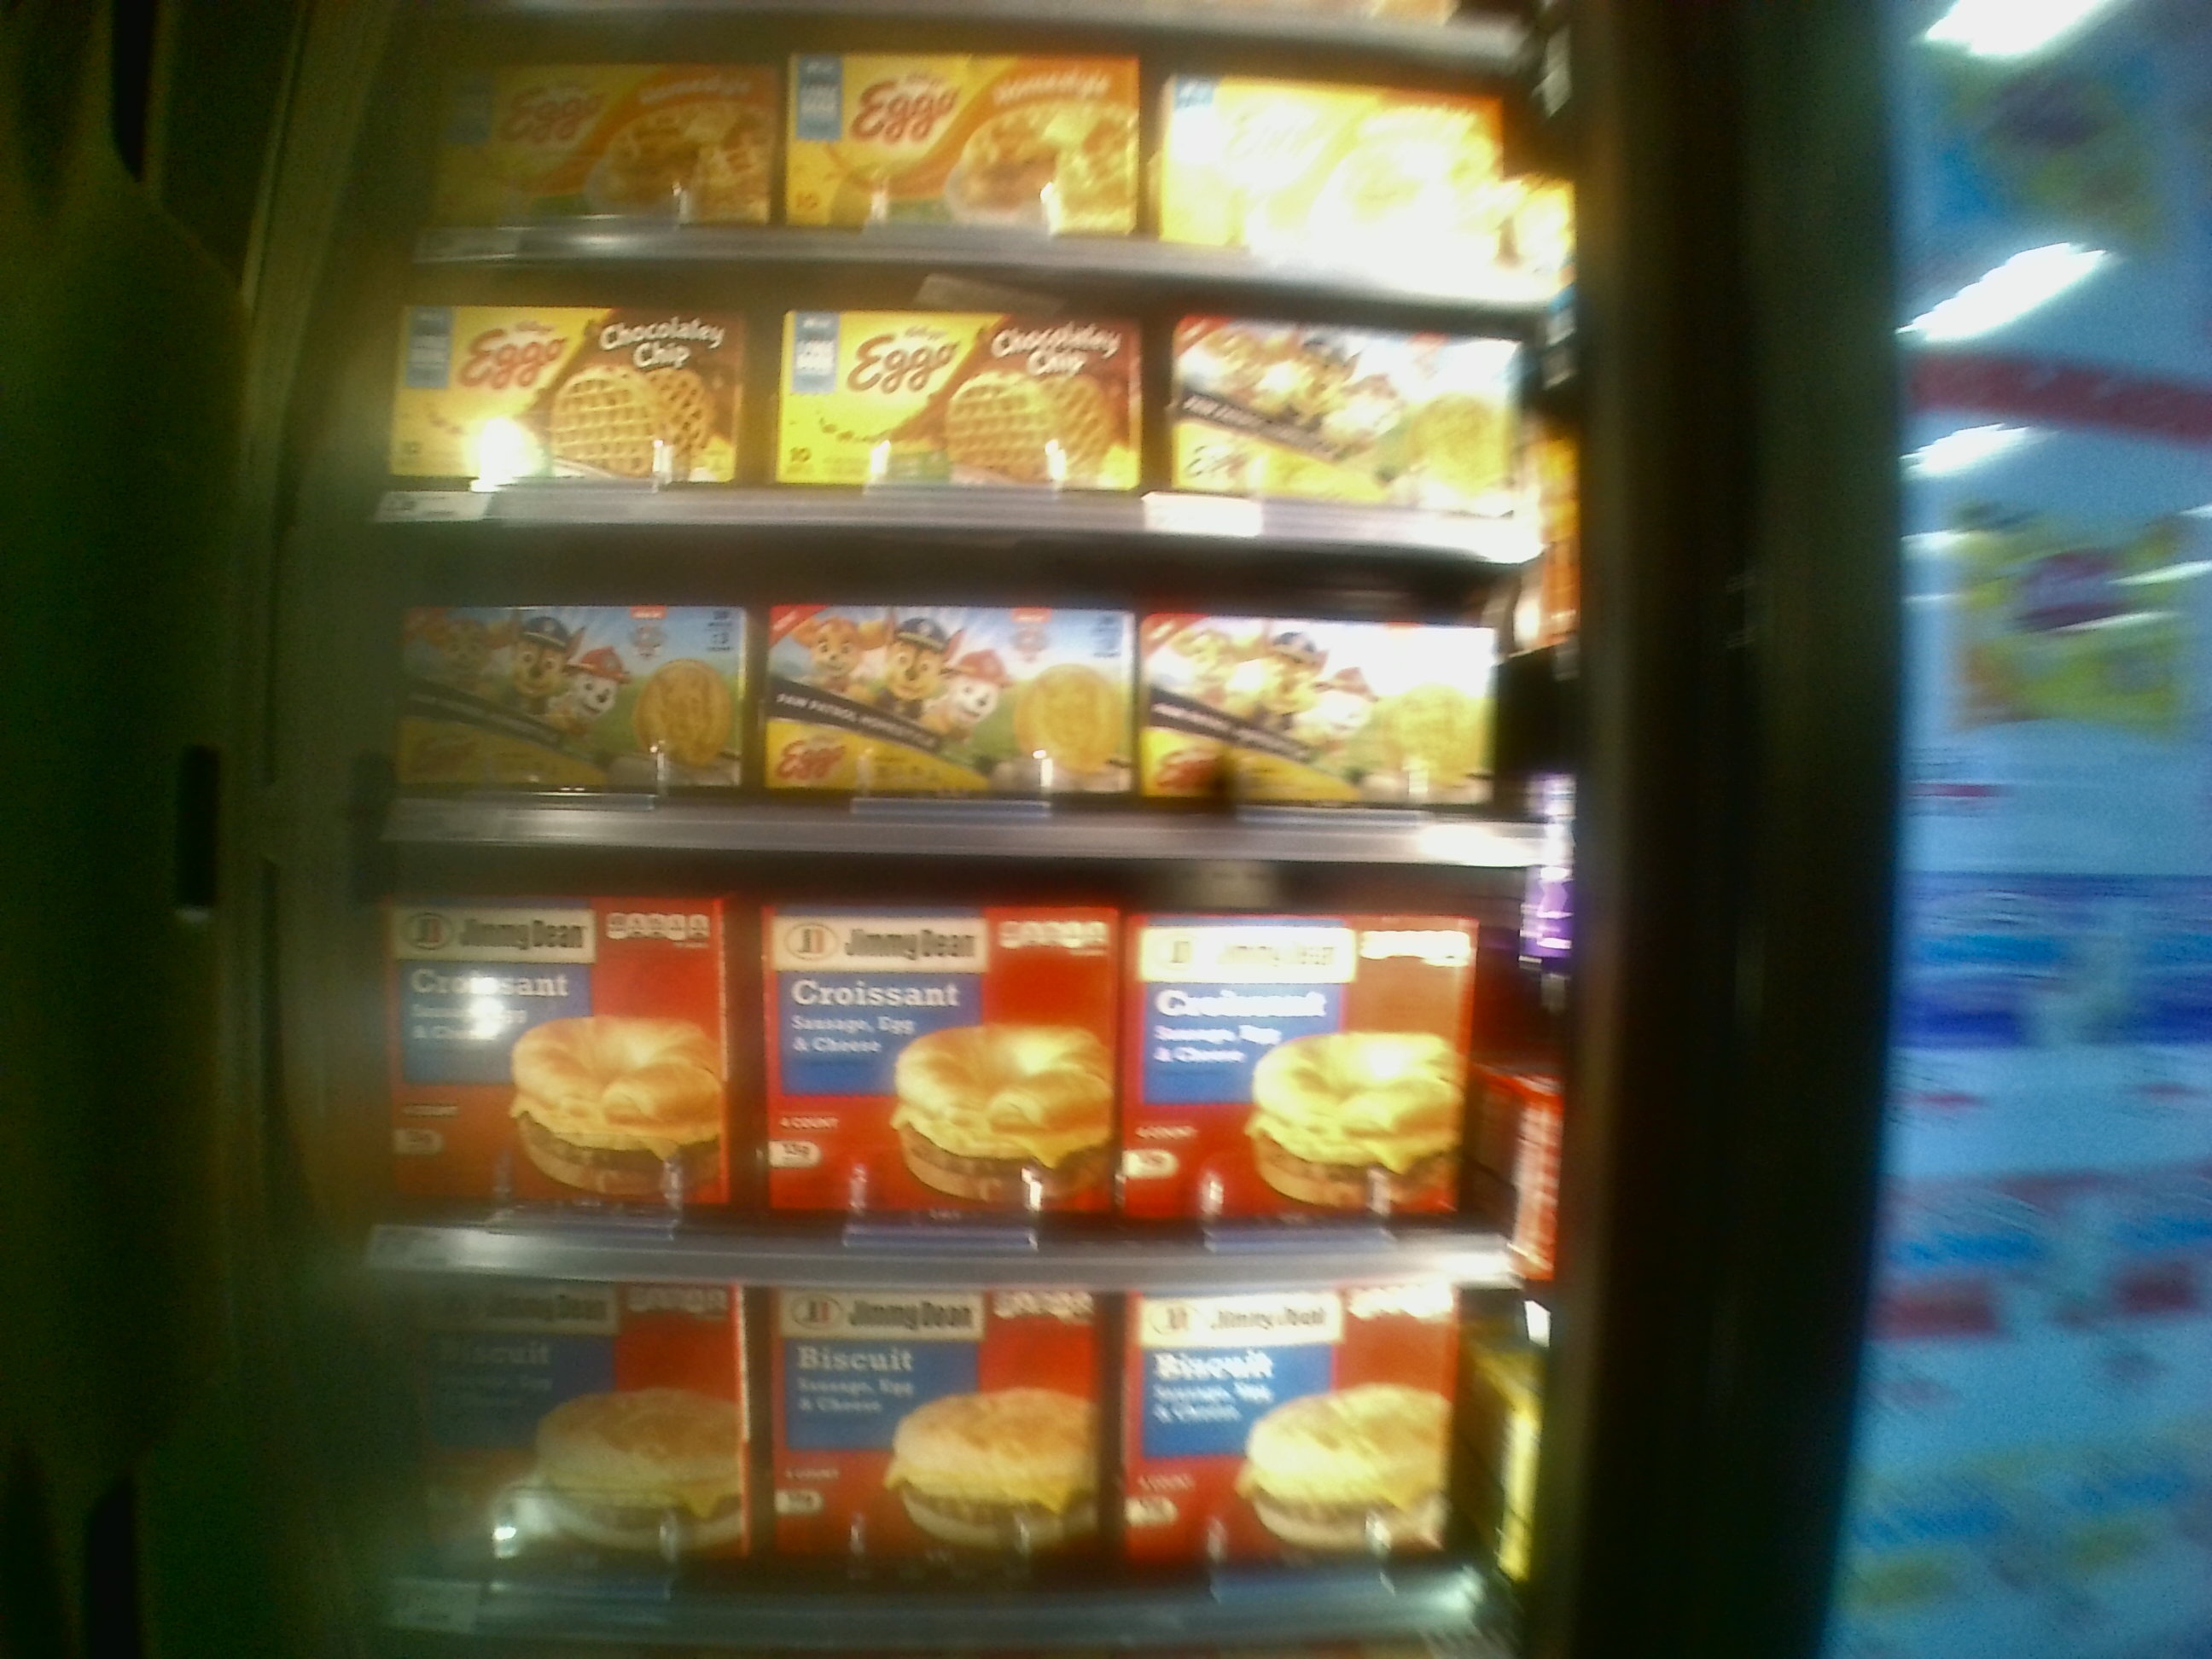shelf: (366, 842, 1538, 1279), (361, 1281, 1529, 1645), (380, 532, 1571, 859), (366, 256, 1559, 545)
